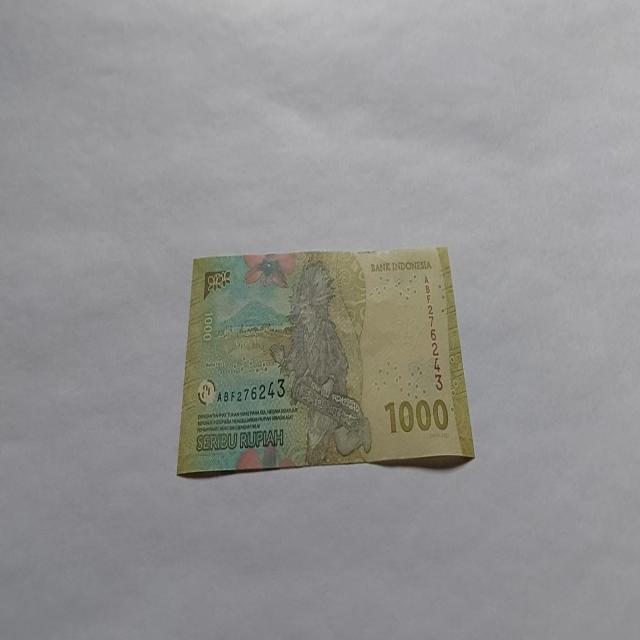seribu rupiah kertas: (175, 245, 475, 478)
